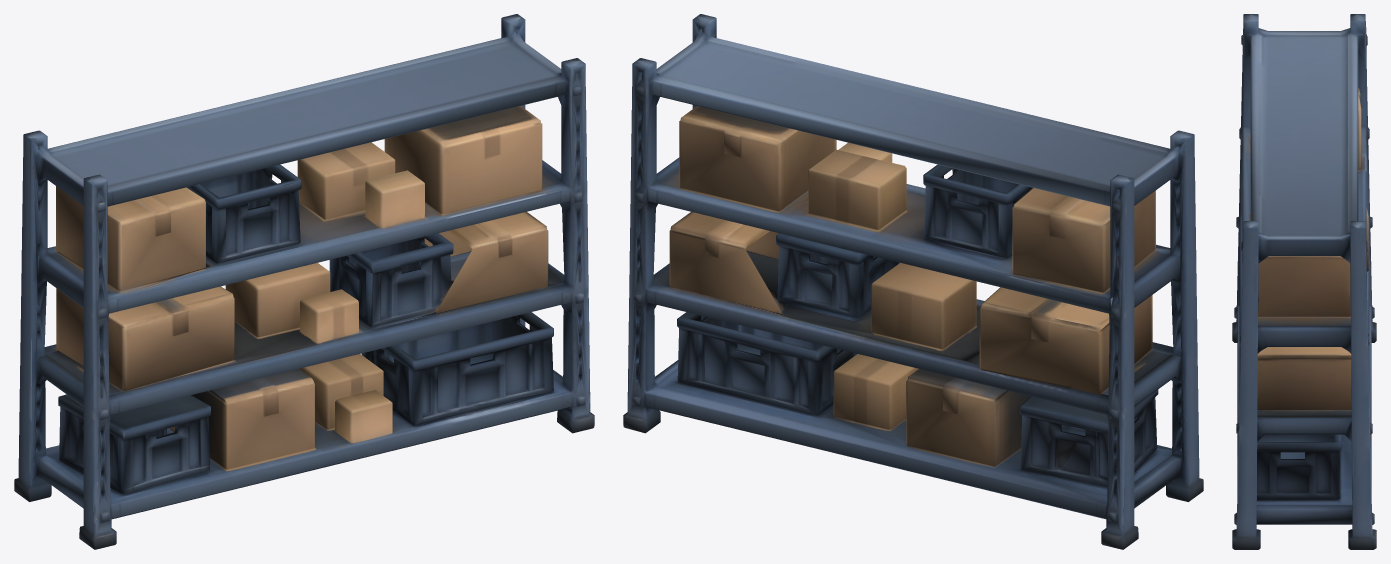
The model's file is shelf.glb.
The picture shows the model from 3 angles, left to right: view 1: azimuth 30°, elevation 25°; view 2: azimuth 150°, elevation 25°; view 3: azimuth 270°, elevation 25°; orthographic projection. The views are drawn at different scales.
Visible parts, largest first — view 1: tripo_node_2aa6d800-453d-4661-a00c-4cedeecb50e4; view 2: tripo_node_2aa6d800-453d-4661-a00c-4cedeecb50e4; view 3: tripo_node_2aa6d800-453d-4661-a00c-4cedeecb50e4.
Boxes of the visible parts, x1,y1,x2,y2 form: tripo_node_2aa6d800-453d-4661-a00c-4cedeecb50e4: [14, 14, 594, 549]; tripo_node_2aa6d800-453d-4661-a00c-4cedeecb50e4: [623, 14, 1203, 549]; tripo_node_2aa6d800-453d-4661-a00c-4cedeecb50e4: [1232, 14, 1376, 549].
Bounding box in the file's own units: 0.998 × 0.6855 × 0.2793.
Materials: 1 (1 with a texture image).
